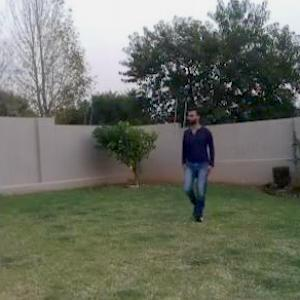follow: (174, 101, 219, 228)
